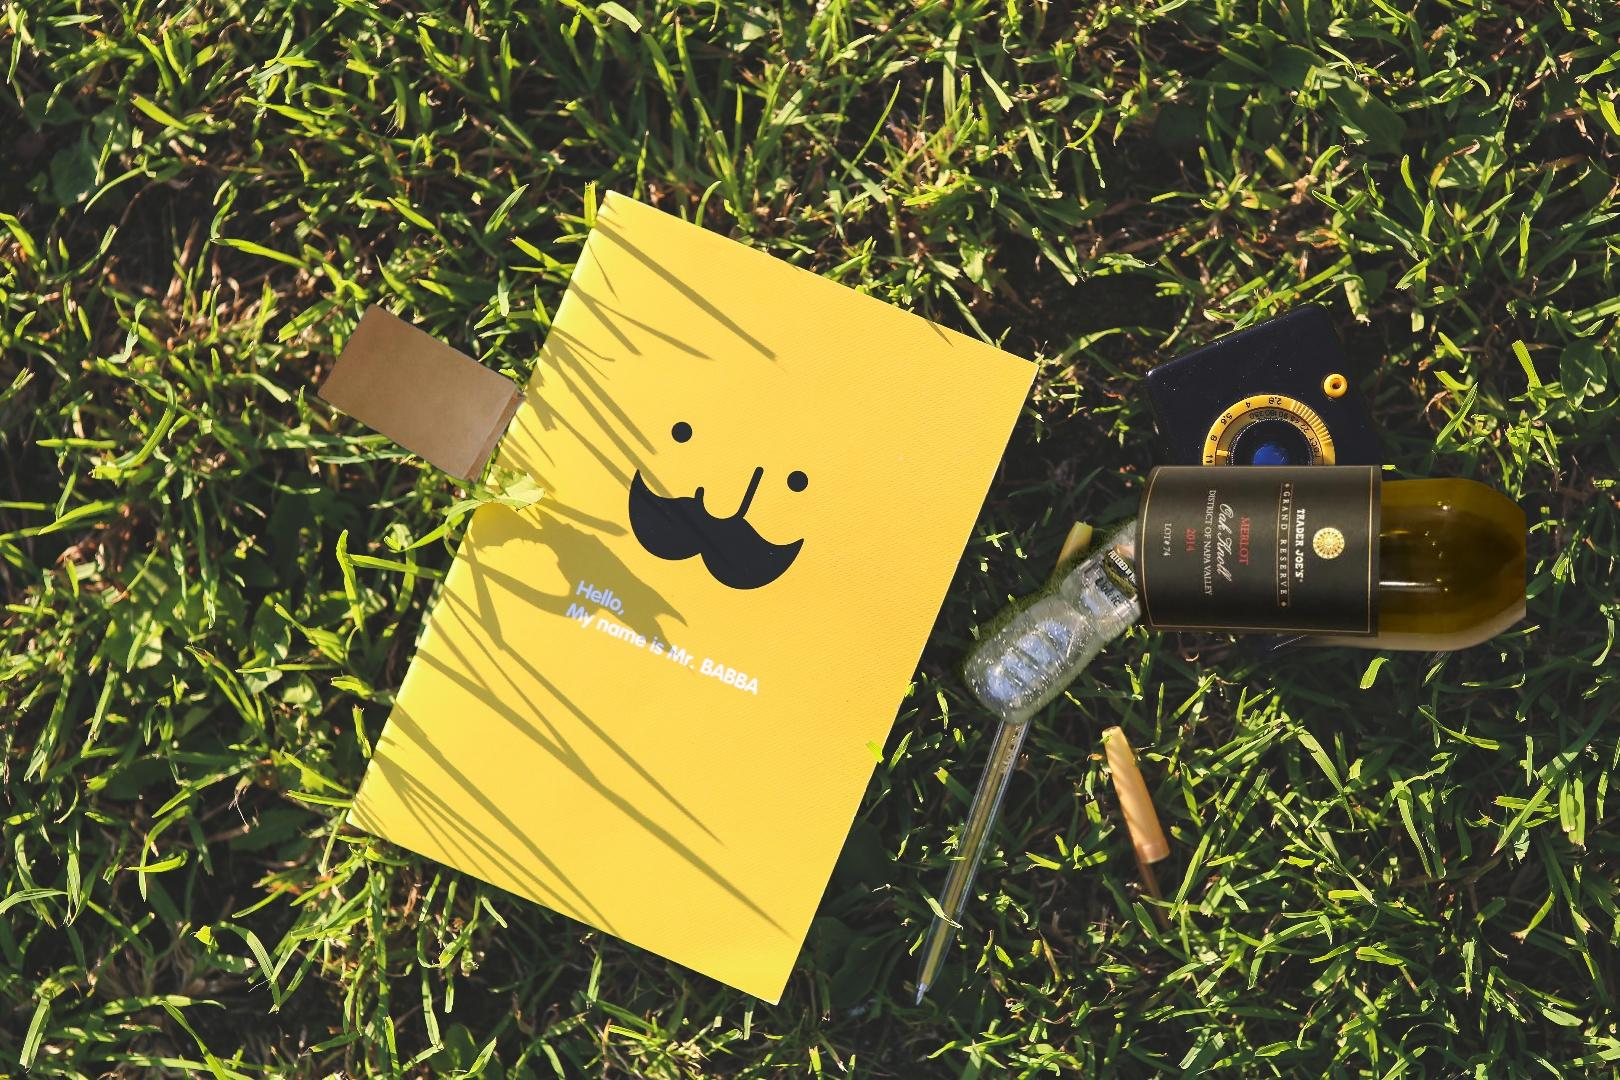glass: (1031, 460, 1526, 655)
paper-bag: (315, 300, 529, 487)
plastic-bottles: (943, 497, 1217, 730)
